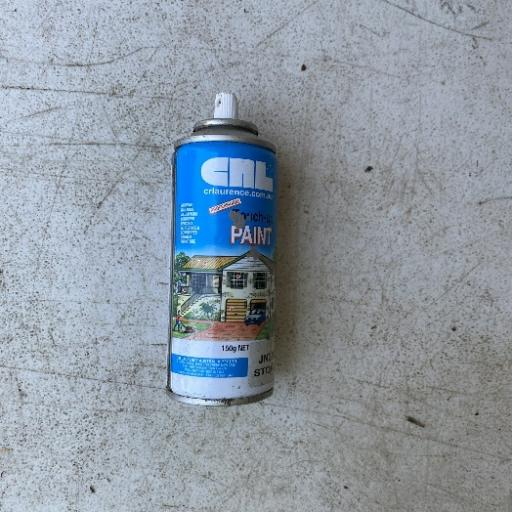Metal: (165, 91, 281, 407)
